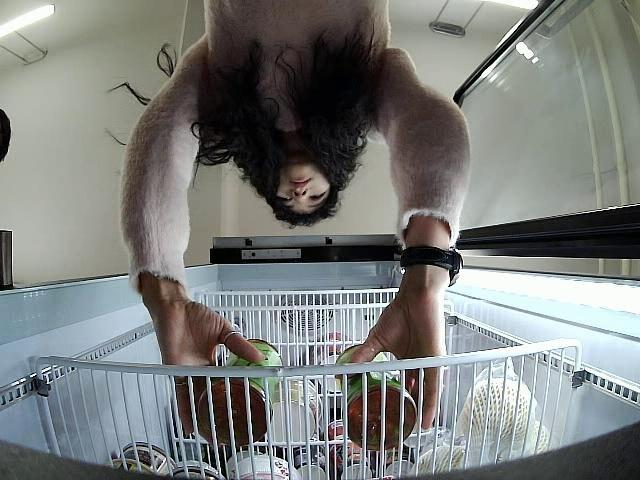19_17cha: (198, 336, 284, 444), (335, 346, 418, 453)
